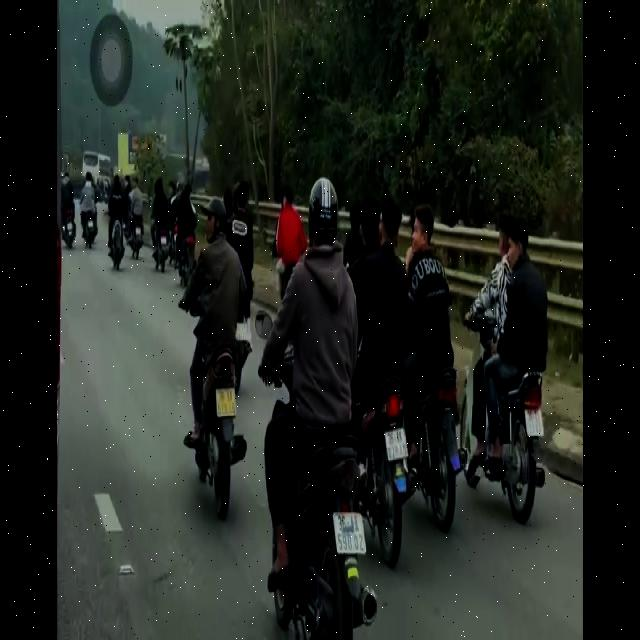helmet: (306, 171, 336, 264), (205, 192, 227, 245)
no_helmet: (412, 200, 436, 272), (380, 198, 402, 265), (509, 218, 528, 283)
